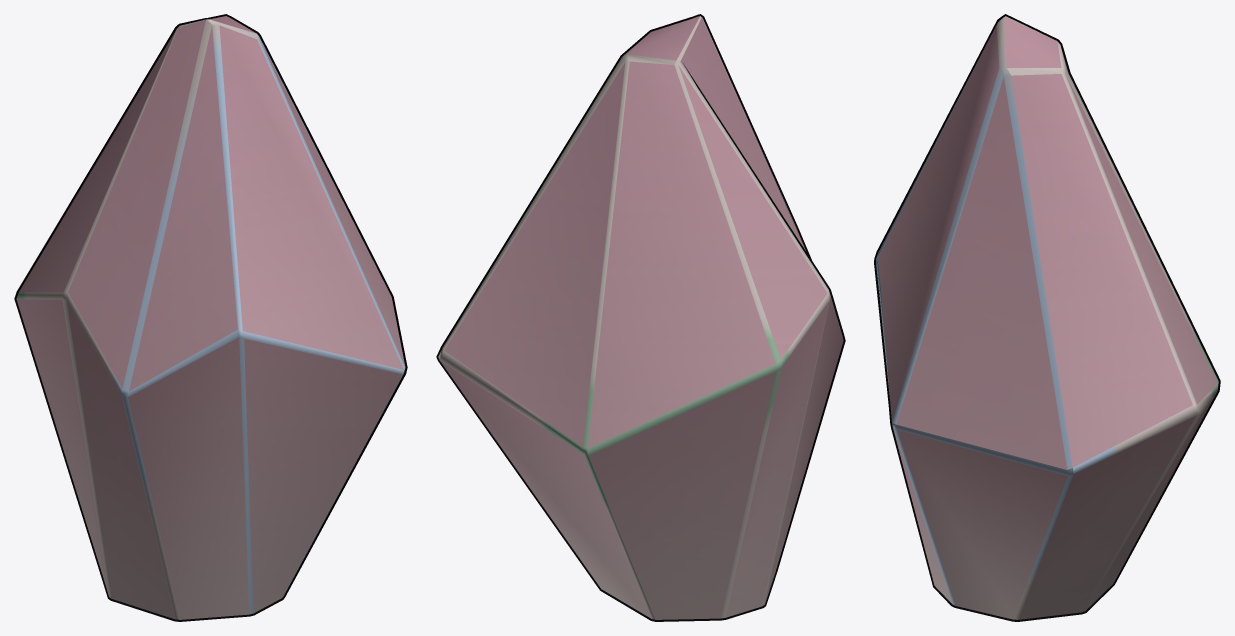
File: crystal-crossroads__Crystal_Small_03.glb
3 renders of one model, left to right at view 1: azimuth 30°, elevation 25°; view 2: azimuth 150°, elevation 25°; view 3: azimuth 270°, elevation 25°, orthographic. The views are drawn at different scales.
Parts seen in each view (by area): view 1: Crystal_Small_03; view 2: Crystal_Small_03; view 3: Crystal_Small_03.
Boxes of the visible parts, box(x1,y1,x2,y2) form: Crystal_Small_03: box(14, 14, 407, 621); Crystal_Small_03: box(436, 14, 845, 621); Crystal_Small_03: box(874, 14, 1220, 621).
Size of the model in its own units: 1.23 by 1.91 by 1.05.
2 materials, 1 textured.
